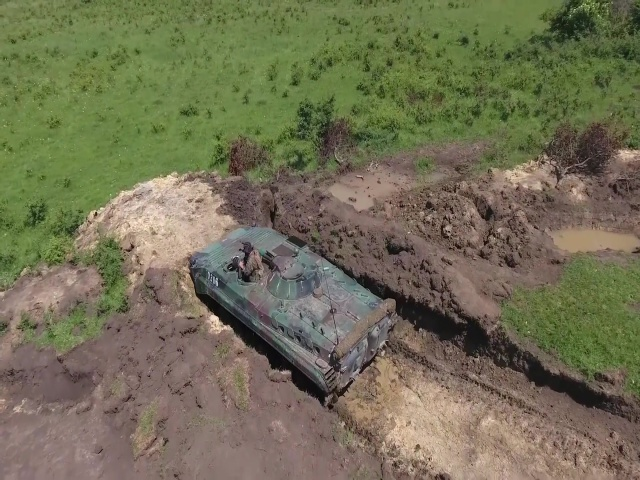vehicle: (188, 224, 396, 399)
